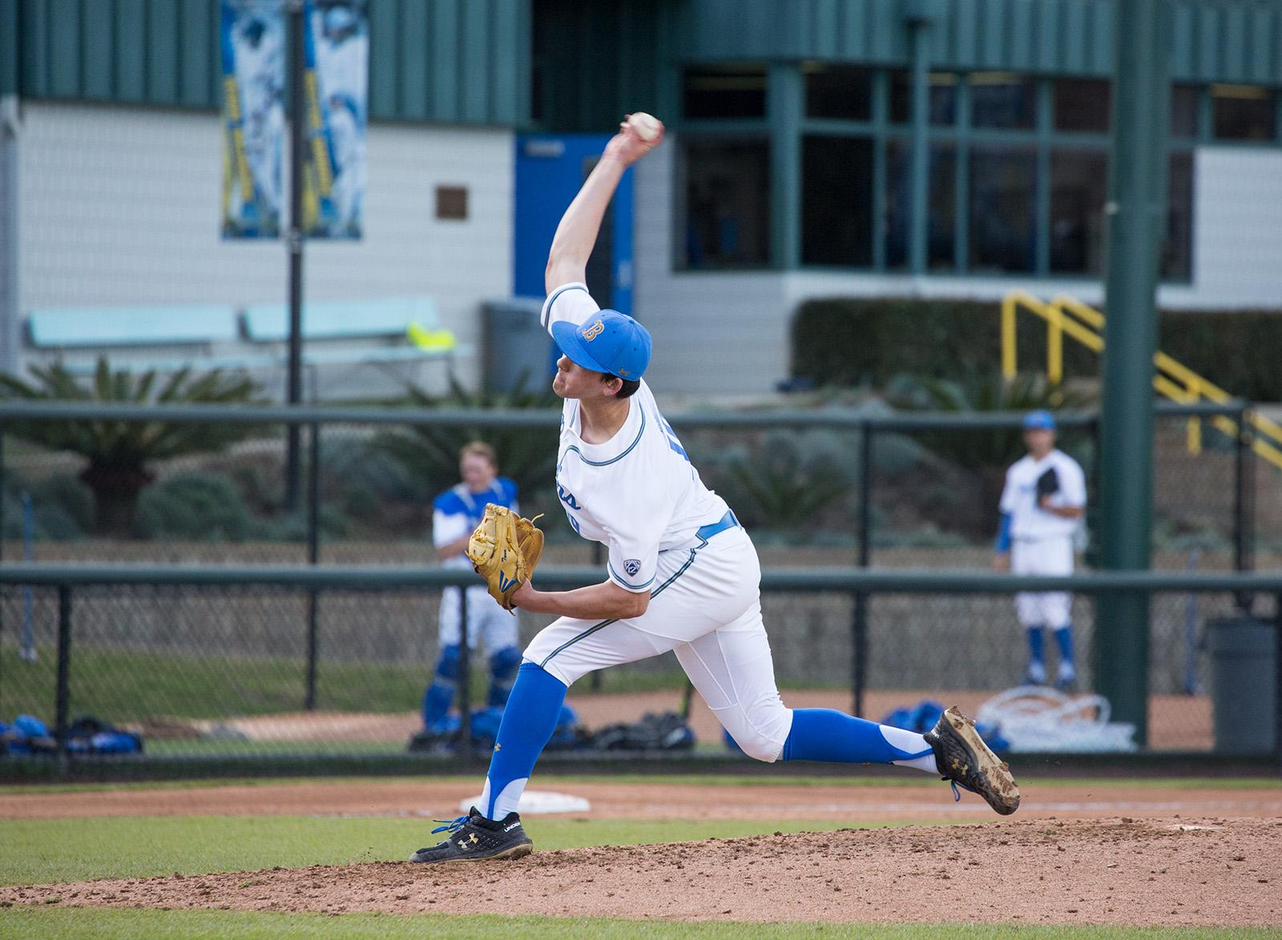baseball: (626, 109, 661, 145)
